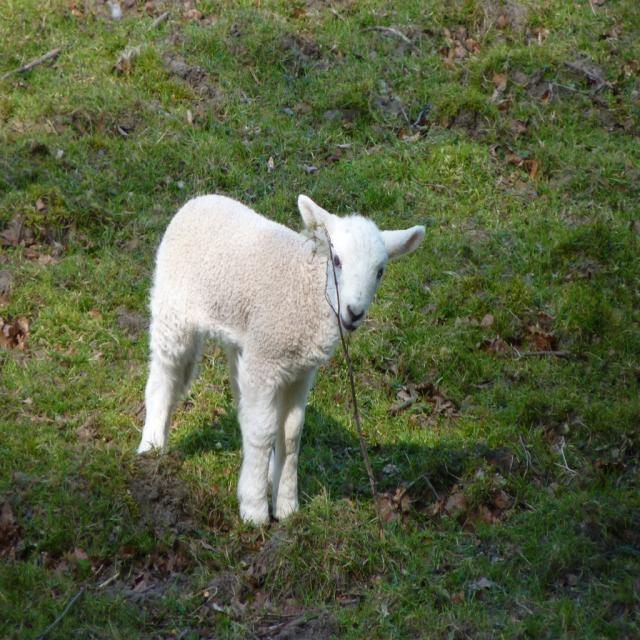Sheep: (136, 192, 425, 528)
